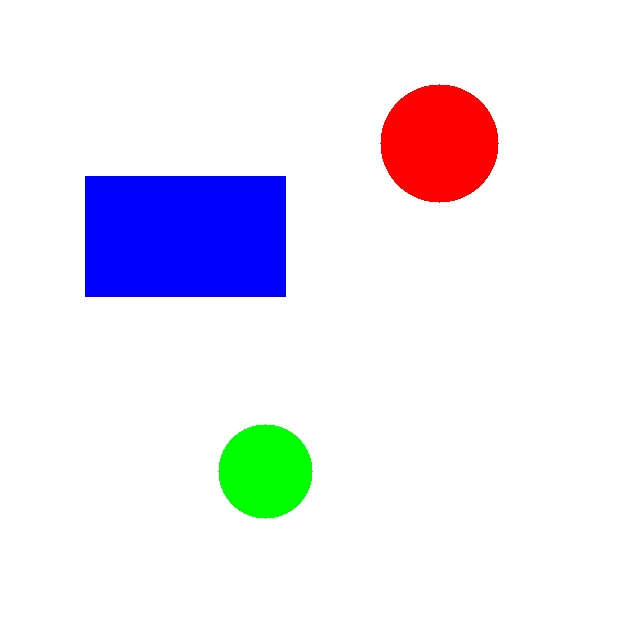cartao: (85, 176, 285, 296)
rosca_externa: (218, 424, 312, 518)
rosca_interna: (380, 84, 498, 202)
